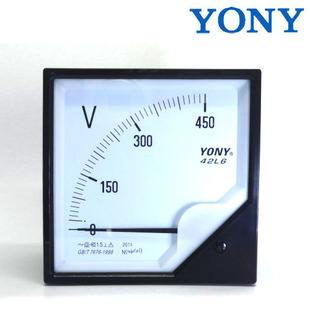pointer: (52, 77, 252, 274)
